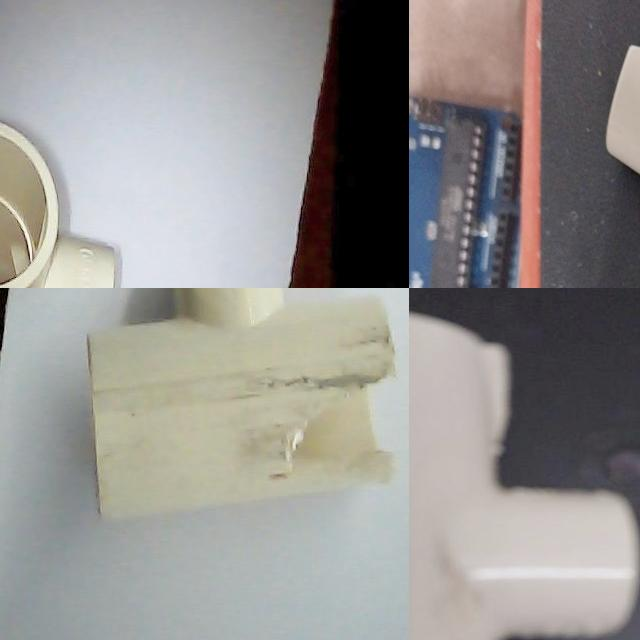Defective: (280, 376, 396, 486)
T Joint: (409, 313, 640, 640), (87, 288, 397, 523), (414, 0, 640, 288), (0, 123, 123, 288)
